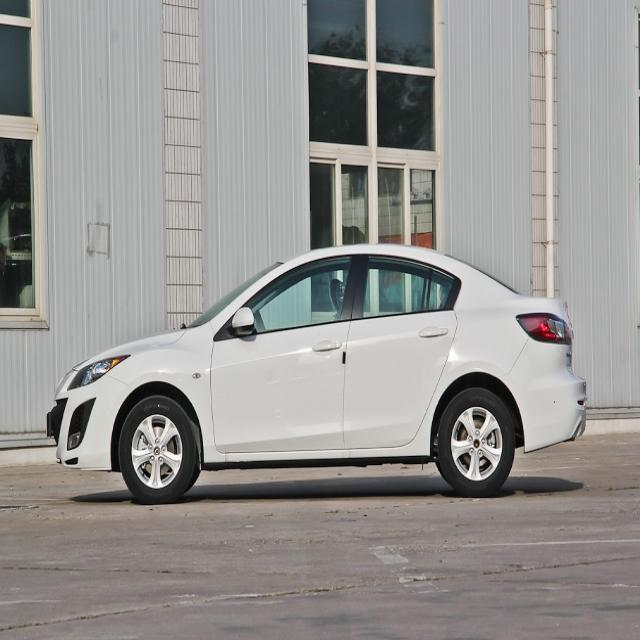back_left_side_light: (517, 310, 573, 346)
door: (342, 254, 470, 451)
front_left_side_door: (209, 248, 361, 454)
front_left_side_light: (67, 352, 132, 392)
front_left_side_mirror: (230, 306, 255, 338)
wheel: (436, 385, 516, 497), (118, 394, 196, 502)
